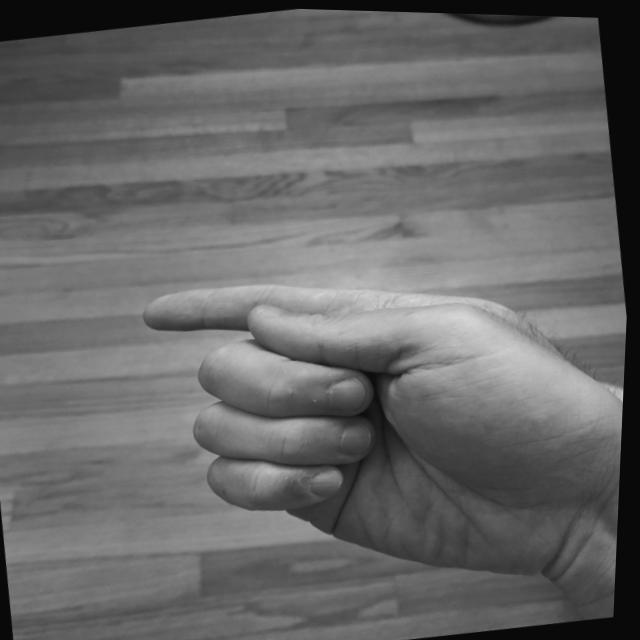G: (123, 221, 631, 633)
